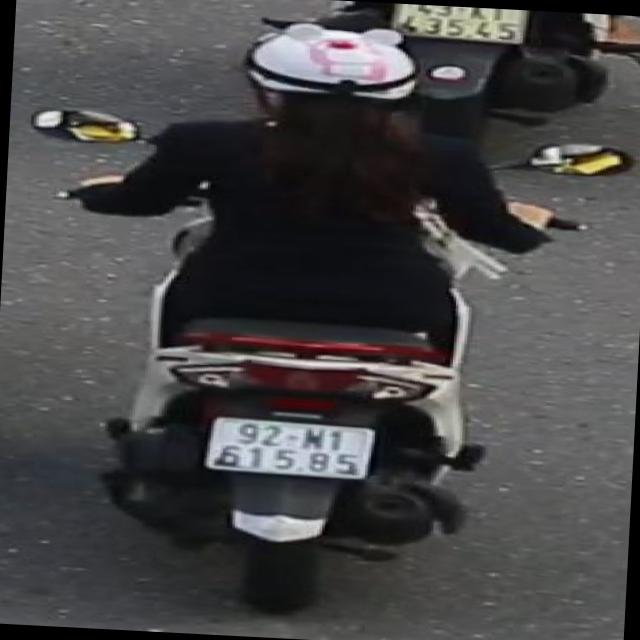LP: (201, 410, 376, 486)
helmet: (228, 12, 438, 146)
